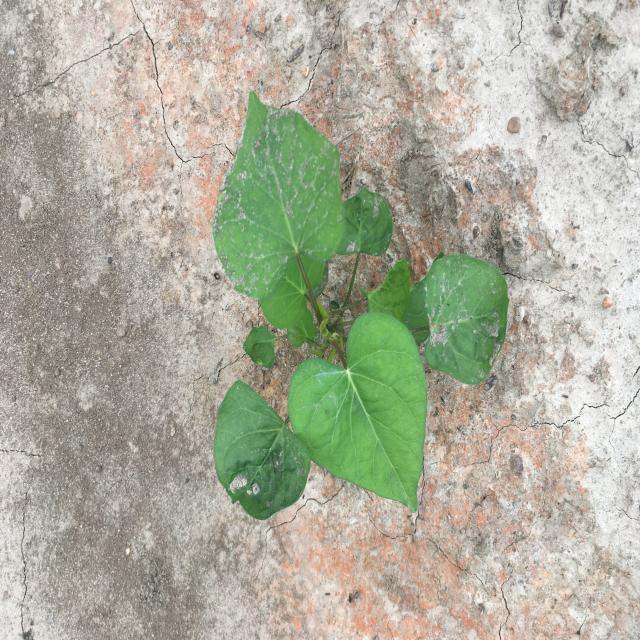MorningGlory: (212, 88, 510, 521)
